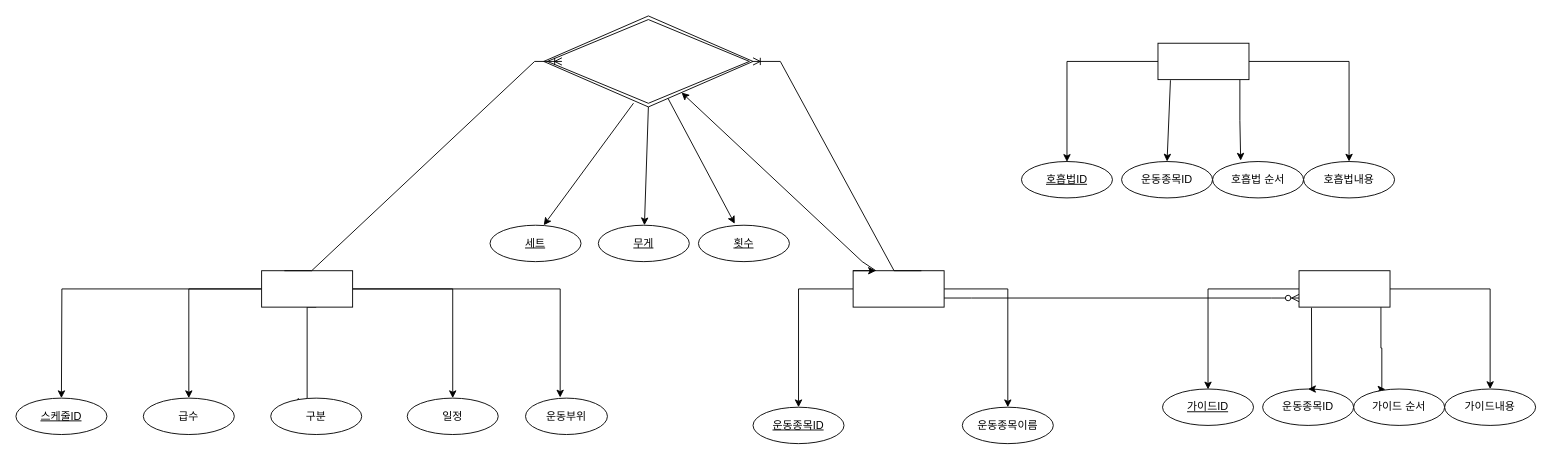
The diagram is 1552 pixels wide and 460 high, and some of its shapes have lost their labels. The shapes that lost their labels are listed below. From the top down, each one's centre as x and y in pixels, then its label:
At (648,61): "스케줄별 운동종목".
At (1203,61): "호흡법".
At (307,288): "운동 스케줄".
At (898,288): "운동종목".
At (1344,288): "운동가이드".
